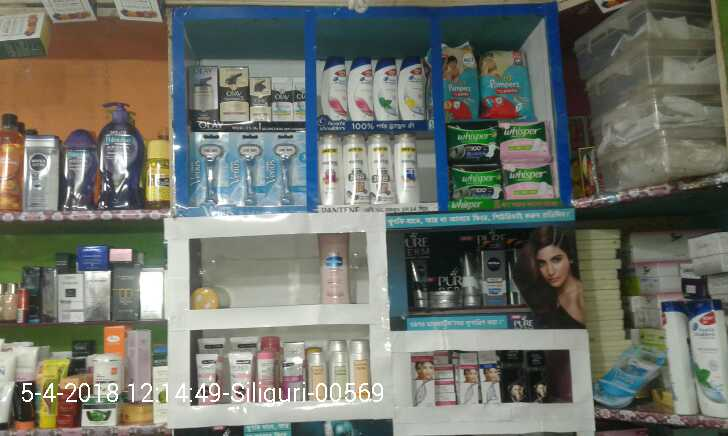venus: (595, 344, 662, 403), (263, 132, 305, 206), (191, 131, 231, 205), (231, 132, 263, 205)
